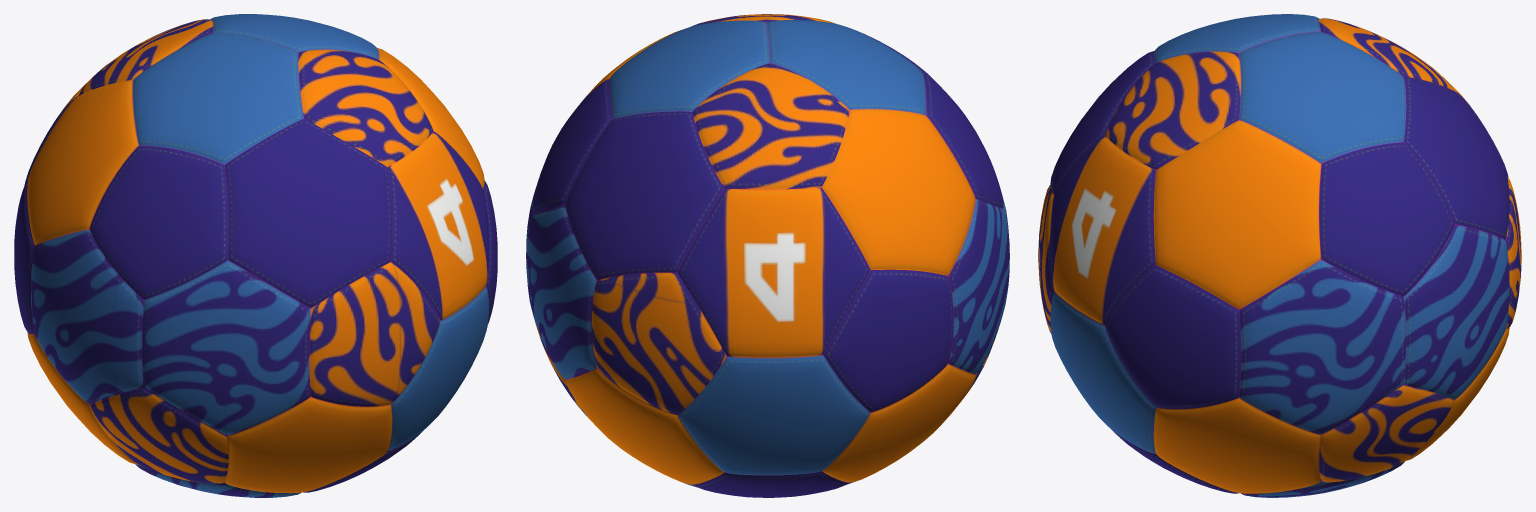
Rendered from Ball-2.glb.
3 renders of one model, left to right at view 1: azimuth 30°, elevation 25°; view 2: azimuth 150°, elevation 25°; view 3: azimuth 270°, elevation 25°, orthographic.
Parts seen in each view (by area): view 1: Ball.001; view 2: Ball.001; view 3: Ball.001.
Part boxes in pixels (x1,y1,x2,y2): Ball.001: (14,14,497,497); Ball.001: (526,14,1009,497); Ball.001: (1038,14,1521,497).
Bounding box in the file's own units: 1.55 × 1.55 × 1.55.
Materials: 1 (1 with a texture image).
